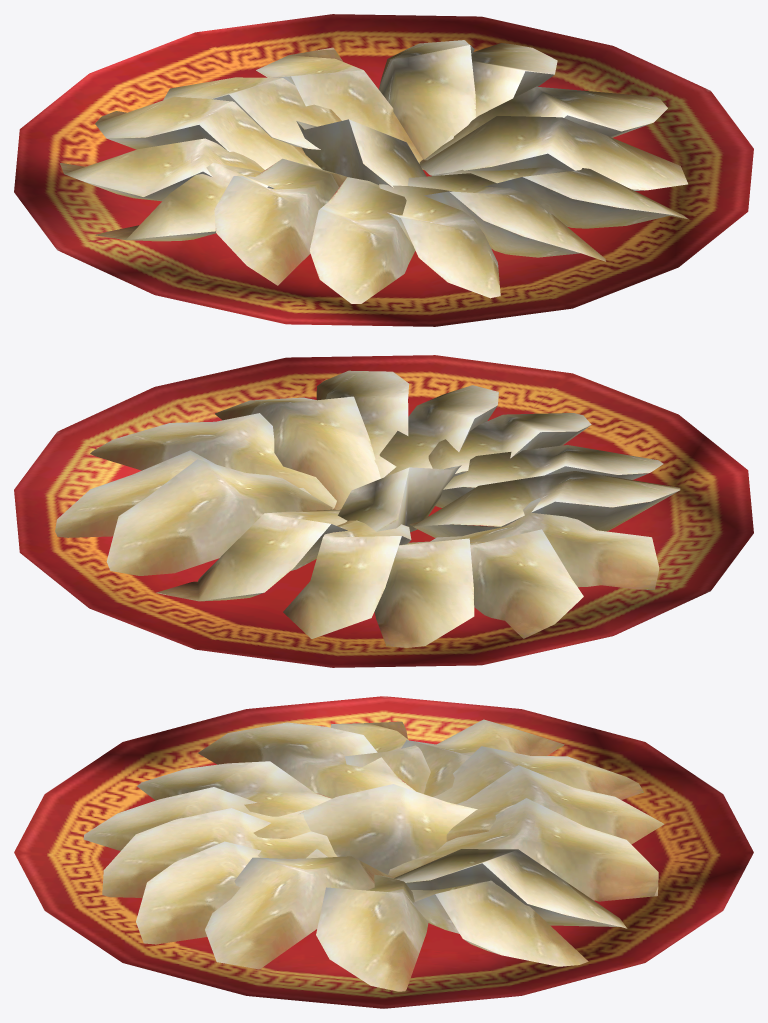
Rendered from Pickup_Jiaozi01.glb.
3 renders of one model, top to bottom at view 1: azimuth 30°, elevation 25°; view 2: azimuth 150°, elevation 25°; view 3: azimuth 270°, elevation 25°, orthographic.
Visible parts, largest first — view 1: pk_jiaozi_01; view 2: pk_jiaozi_01; view 3: pk_jiaozi_01.
Part boxes in pixels (x1,y1,x2,y2): pk_jiaozi_01: [14, 14, 753, 326]; pk_jiaozi_01: [14, 355, 753, 667]; pk_jiaozi_01: [14, 696, 753, 1008].
Size of the model in its own units: 2.36 by 0.3805 by 2.36.
1 material, 1 textured.
